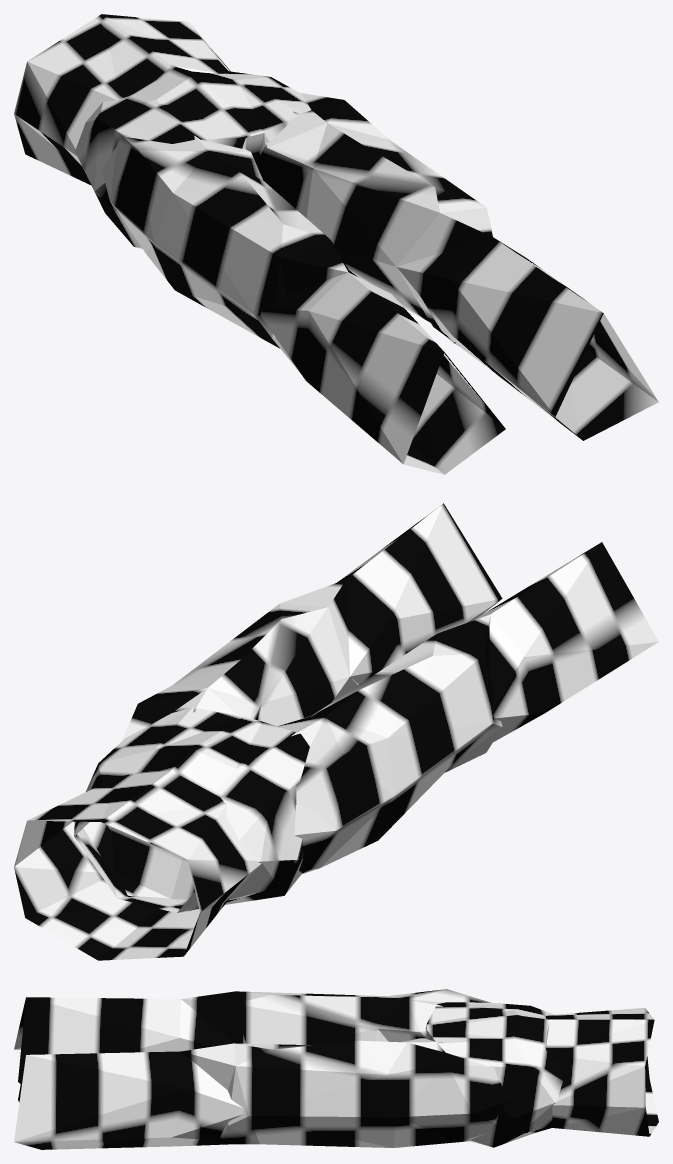
The model's file is initarpt7.dae.
3 views of the same model, one above another, from view 1: azimuth 30°, elevation 25°; view 2: azimuth 150°, elevation 25°; view 3: azimuth 270°, elevation 25° (orthographic). The views are drawn at different scales.
Visible parts, largest first — view 1: armor; view 2: armor; view 3: armor.
Part boxes in pixels (bbox=[...]): armor: bbox=[14, 14, 658, 474]; armor: bbox=[14, 503, 658, 960]; armor: bbox=[14, 989, 658, 1149].
Size of the model in its own units: 0.6134 by 1.81 by 0.3584.
1 material, 1 textured.
